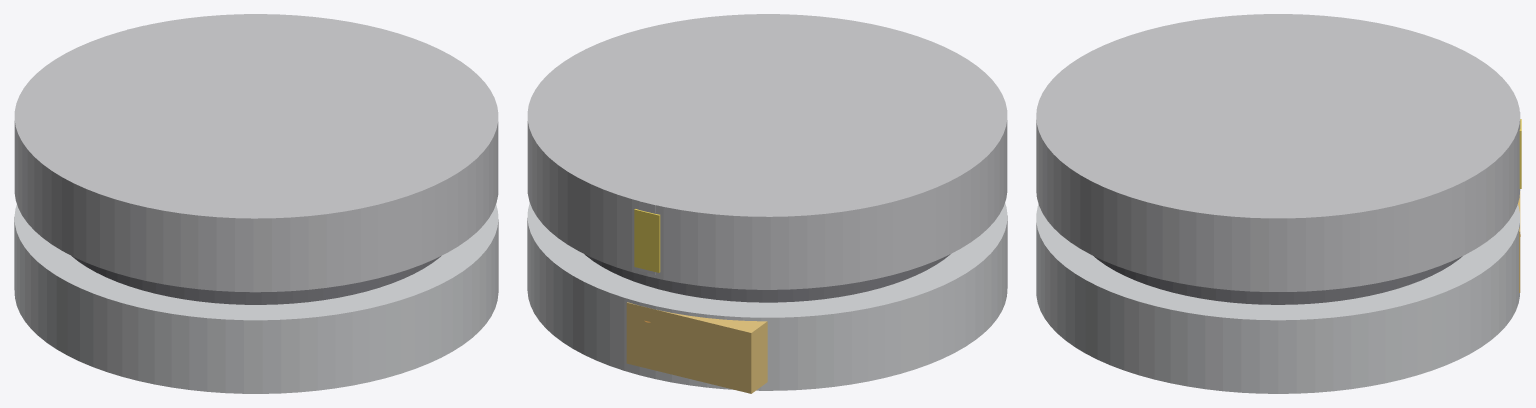
The model's file is robo01_rotor_s_rot90.glb.
The picture shows the model from 3 angles, left to right: view 1: azimuth 30°, elevation 25°; view 2: azimuth 150°, elevation 25°; view 3: azimuth 270°, elevation 25°; orthographic projection.
Parts seen in each view (by area): view 1: half_b_rotor, base, bearing; view 2: half_b_rotor, base, drive, bearing, half_b_mark; view 3: half_b_rotor, base, bearing.
Part boxes in pixels (bbox=[...]): half_b_rotor: bbox=[14, 14, 498, 292]; base: bbox=[14, 204, 498, 393]; bearing: bbox=[72, 256, 440, 304]; half_b_rotor: bbox=[527, 14, 1007, 289]; base: bbox=[527, 203, 1007, 390]; drive: bbox=[626, 302, 767, 393]; bearing: bbox=[584, 254, 950, 302]; half_b_mark: bbox=[634, 209, 660, 272]; half_b_rotor: bbox=[1036, 14, 1520, 291]; base: bbox=[1036, 204, 1519, 393]; bearing: bbox=[1094, 256, 1462, 304].
Size of the model in its own units: 0.625 by 0.25 by 0.627.
